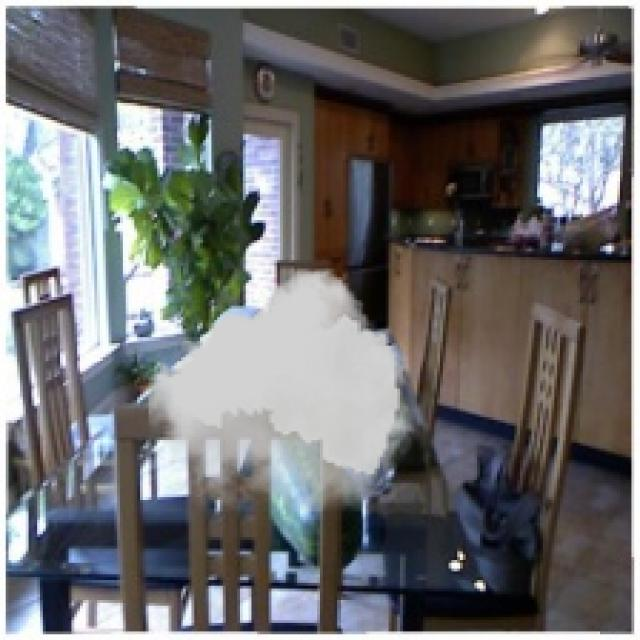smoke: (148, 268, 412, 512)
